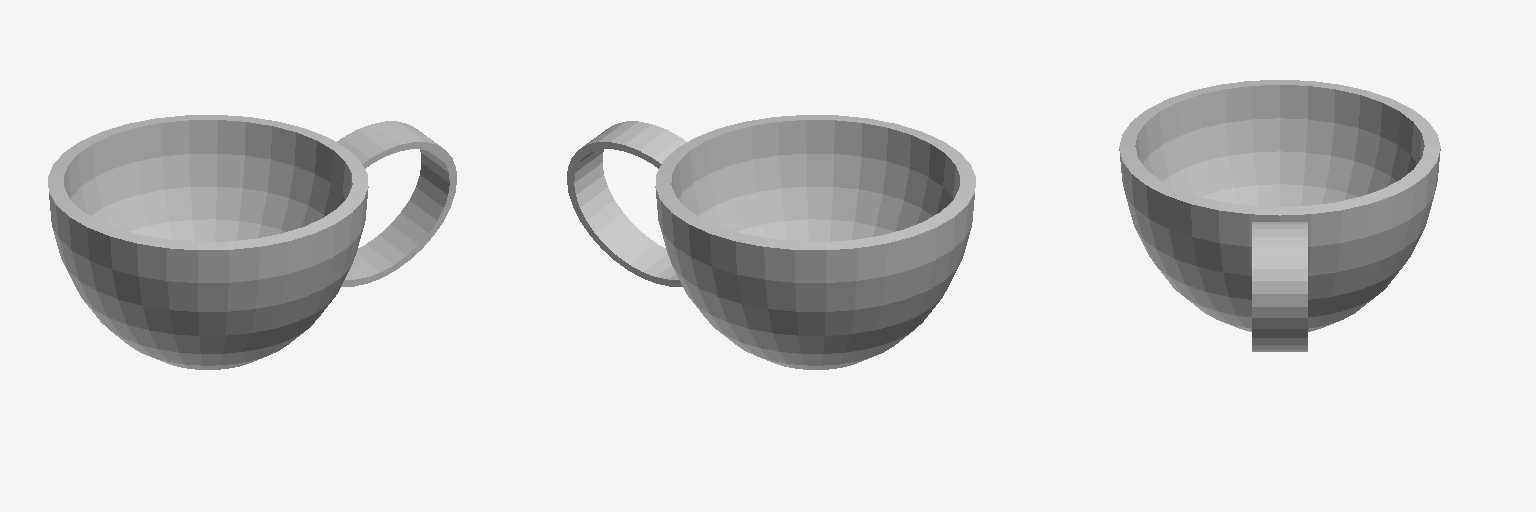
File: Tea Cup.obj
3 views of the same model, side by side, from view 1: azimuth 30°, elevation 25°; view 2: azimuth 150°, elevation 25°; view 3: azimuth 270°, elevation 25° (orthographic).
Parts seen in each view (by area): view 1: TeaCup; view 2: TeaCup; view 3: TeaCup.
Boxes of the visible parts, x1,y1,x2,y2 form: TeaCup: [48, 115, 456, 369]; TeaCup: [567, 115, 975, 369]; TeaCup: [1119, 80, 1440, 351].
Size of the model in its own units: 4.03 by 1.85 by 3.